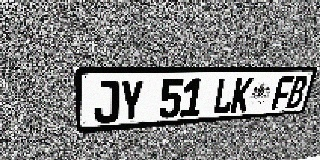1: (180, 78, 204, 117)
5: (159, 79, 184, 119)
B: (285, 76, 309, 109)
F: (271, 76, 294, 110)
J: (93, 80, 119, 124)
K: (230, 77, 254, 113)
L: (212, 78, 236, 115)
Y: (119, 80, 144, 122)
